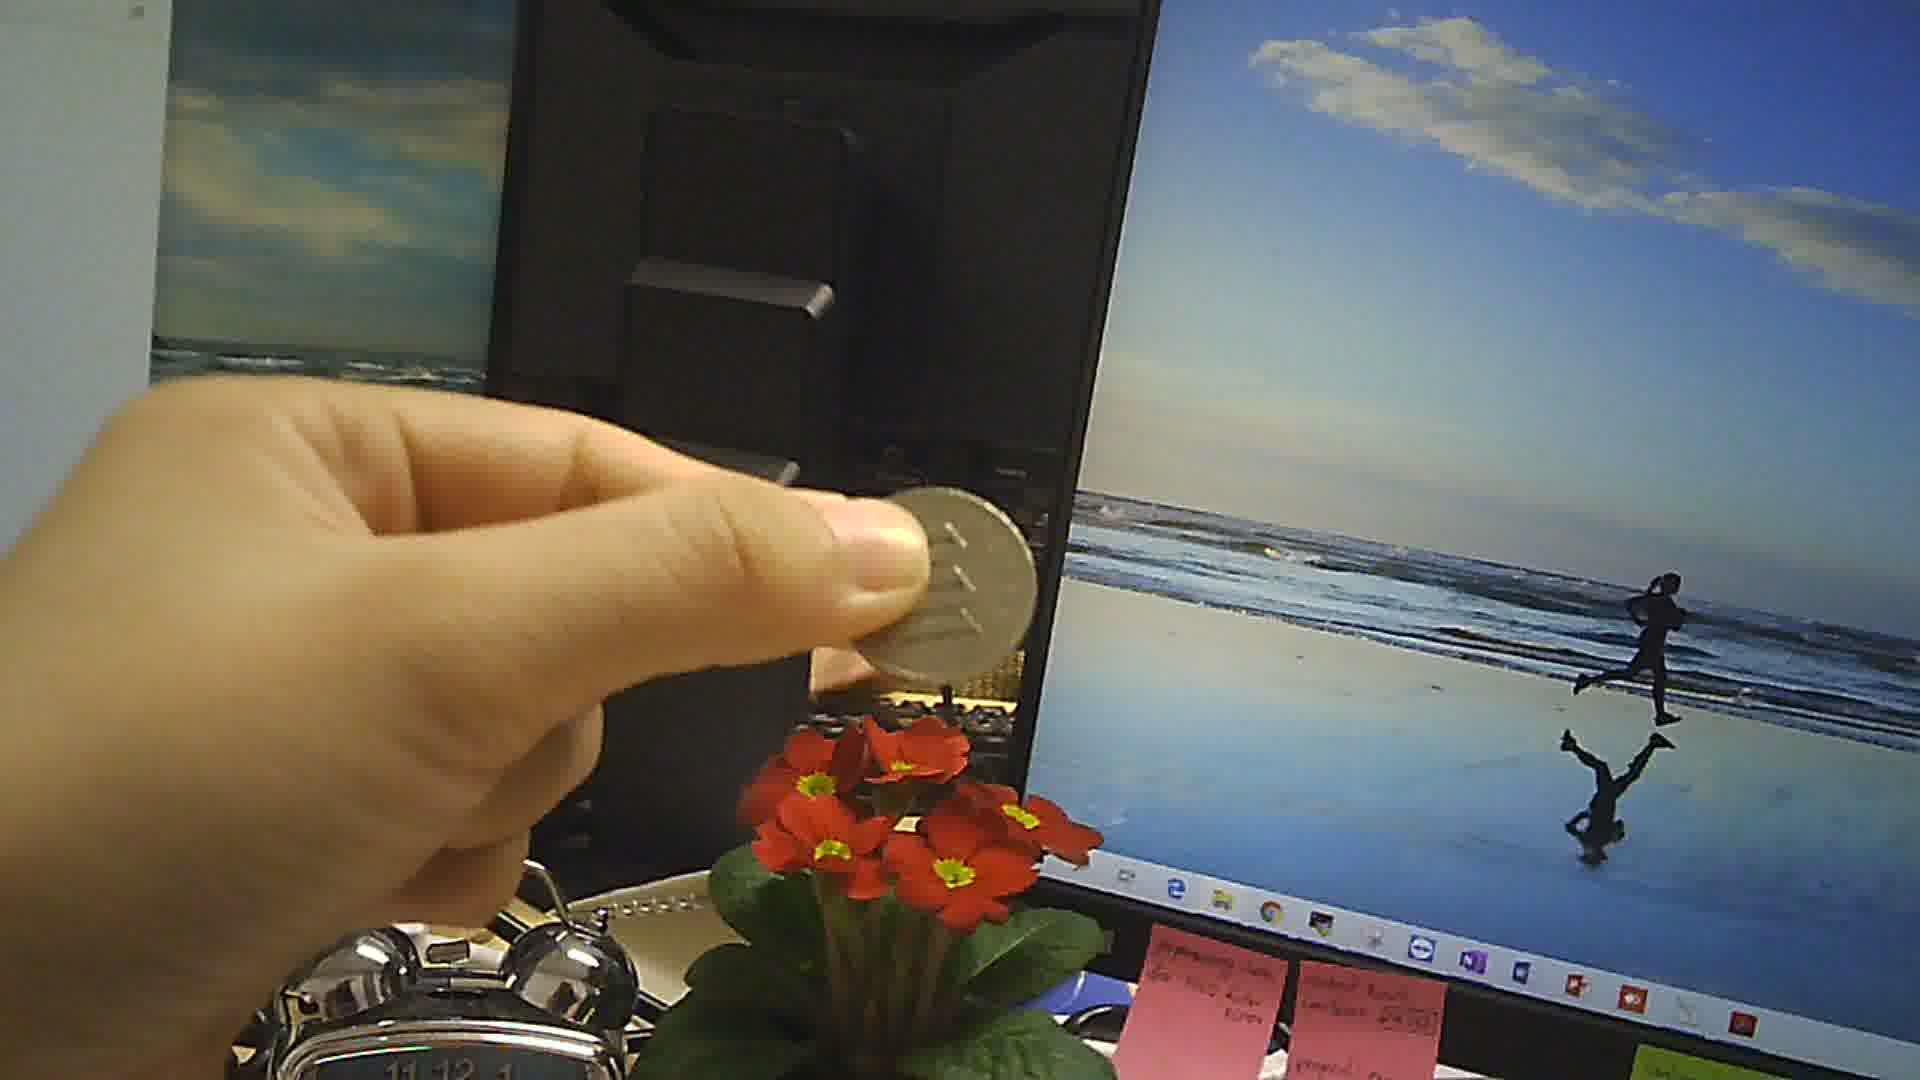100 Yen: (828, 480, 1040, 694)
